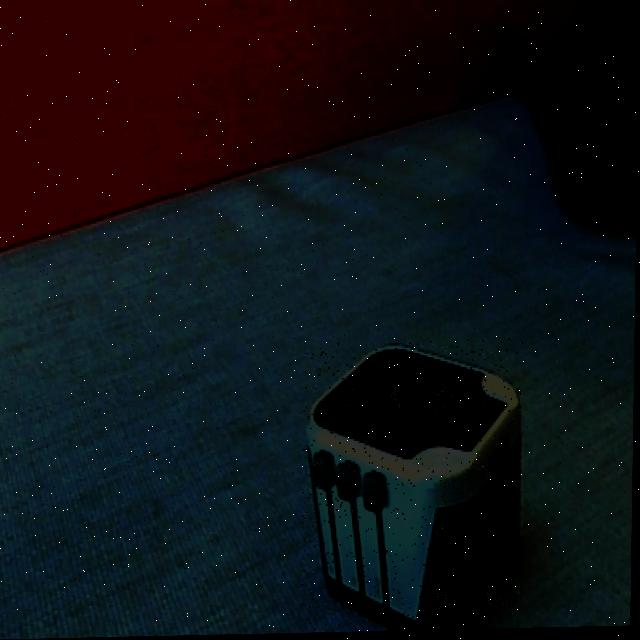adapter: (303, 341, 525, 635)
